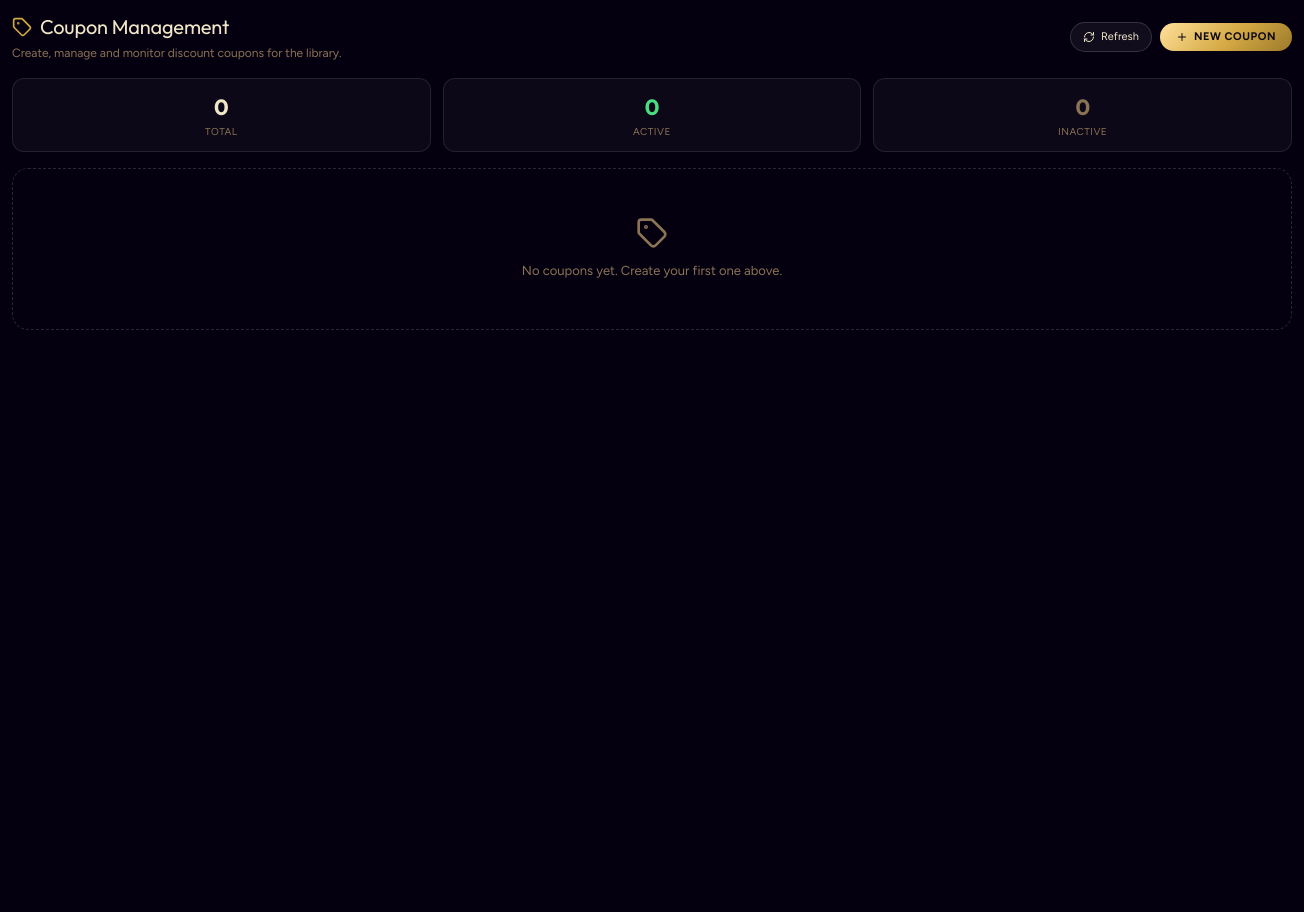
Test: Book Discount form shows a Promotion ID field
Click the button "New Coupon" at (1226, 37), box [1160,23,1292,51]
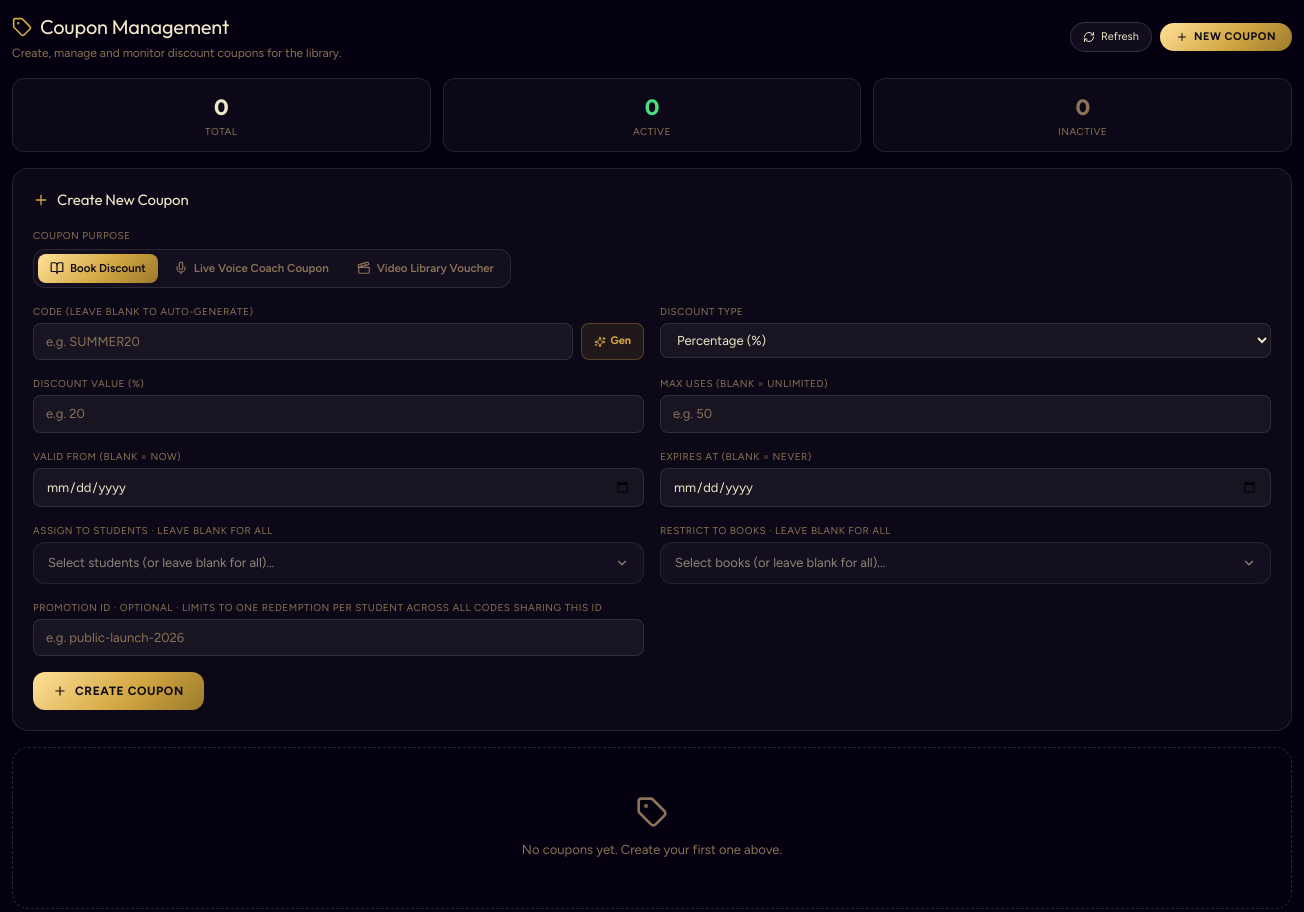
Expected: the field with test id "coupon-promotion-id" is shown, [33,619,644,656]
